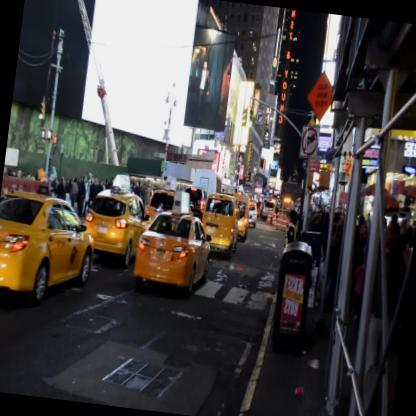car: (0, 189, 100, 314), (130, 207, 214, 301), (80, 187, 155, 271), (198, 192, 242, 257), (142, 188, 173, 230)
